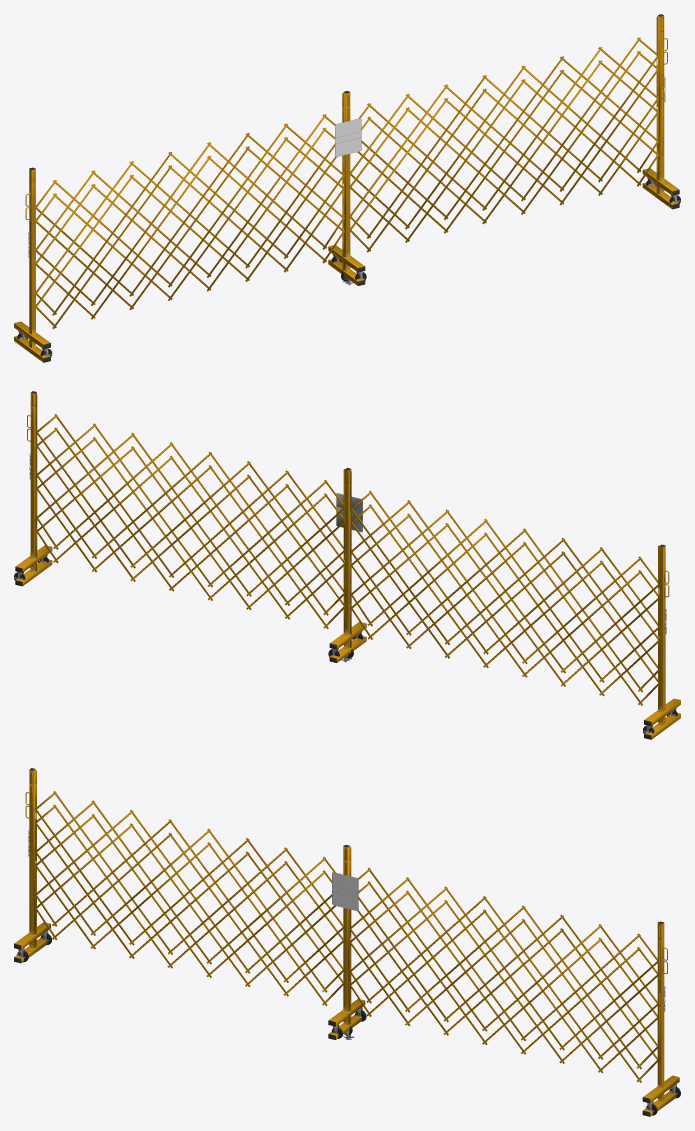
File: gate_safety.glb
3 renders of one model, top to bottom at view 1: azimuth 30°, elevation 25°; view 2: azimuth 150°, elevation 25°; view 3: azimuth 330°, elevation 25°, orthographic.
Visible parts, largest first — view 1: barrier_gate_safety_a02_mesh_00 (×2); view 2: barrier_gate_safety_a02_mesh_00 (×2); view 3: barrier_gate_safety_a02_mesh_00 (×2).
Part boxes in pixels (box(x1,y1,x2,y2)): barrier_gate_safety_a02_mesh_00 (×2): box(14, 14, 679, 362); barrier_gate_safety_a02_mesh_00 (×2): box(15, 391, 680, 739); barrier_gate_safety_a02_mesh_00 (×2): box(14, 768, 679, 1116).
Bounding box in the file's own units: 6.11 × 1.75 × 0.4866.
22 materials, 20 textured.
